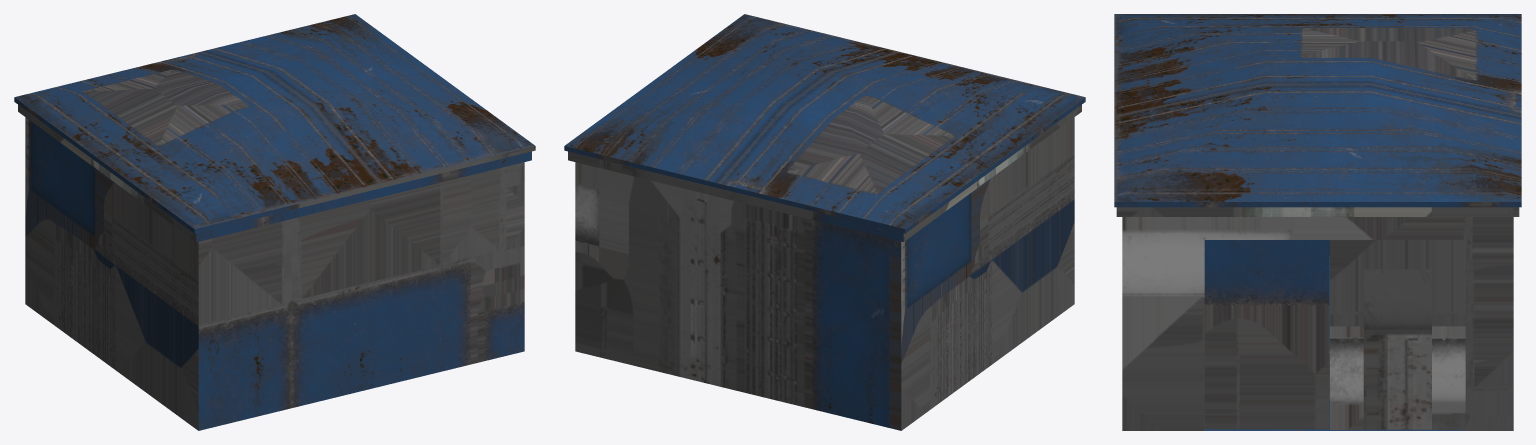
File: Sheds_07.fbx
3 renders of one model, left to right at view 1: azimuth 30°, elevation 25°; view 2: azimuth 150°, elevation 25°; view 3: azimuth 270°, elevation 25°, orthographic. The views are drawn at different scales.
Parts seen in each view (by area): view 1: Cube_086; view 2: Cube_086; view 3: Cube_086, Door.
Boxes of the visible parts, bbox=[...] form: Cube_086: bbox=[14, 14, 535, 430]; Cube_086: bbox=[564, 14, 1085, 430]; Cube_086: bbox=[1114, 14, 1521, 430]; Door: bbox=[1363, 269, 1431, 429].
Size of the model in its own units: 779 by 512 by 714.
